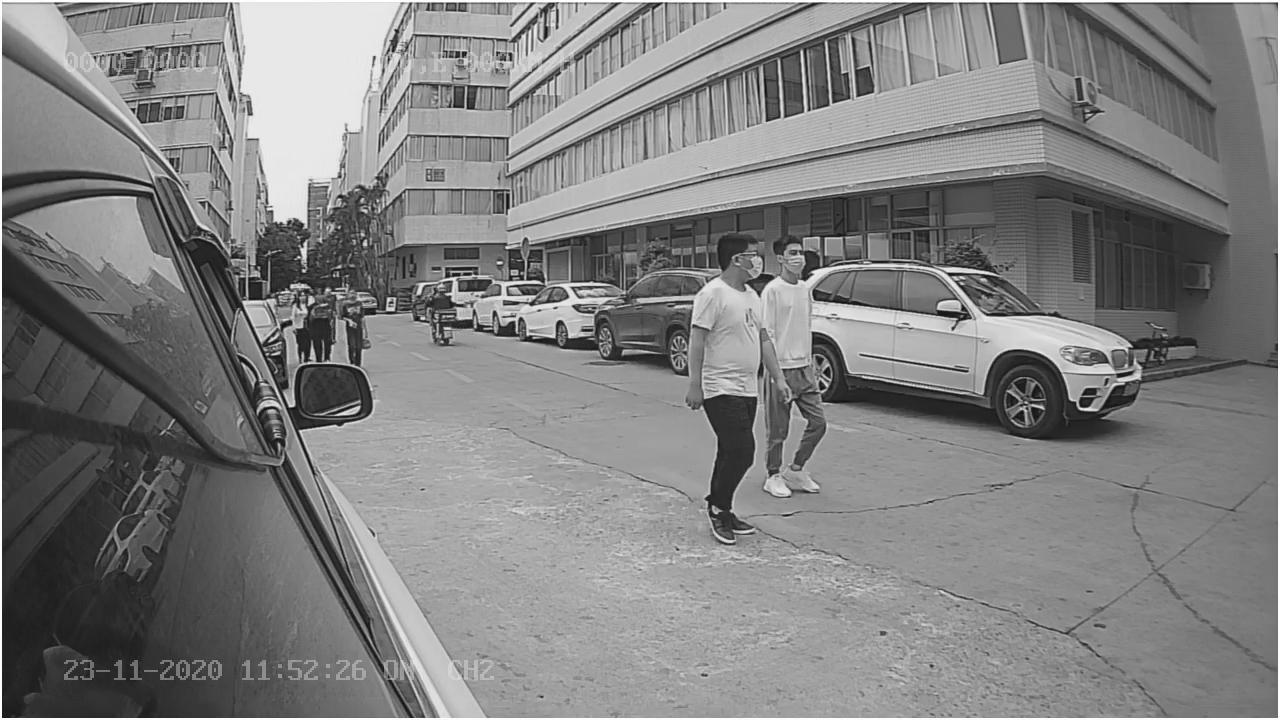person: (682, 222, 785, 534)
